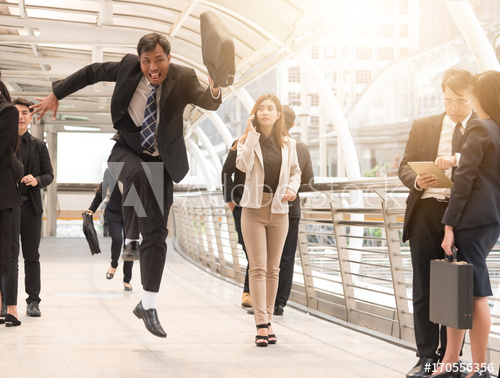feet: (129, 295, 176, 338), (434, 348, 499, 378), (238, 285, 291, 319), (409, 344, 462, 377), (1, 294, 51, 323), (103, 265, 138, 293), (249, 320, 281, 348)
